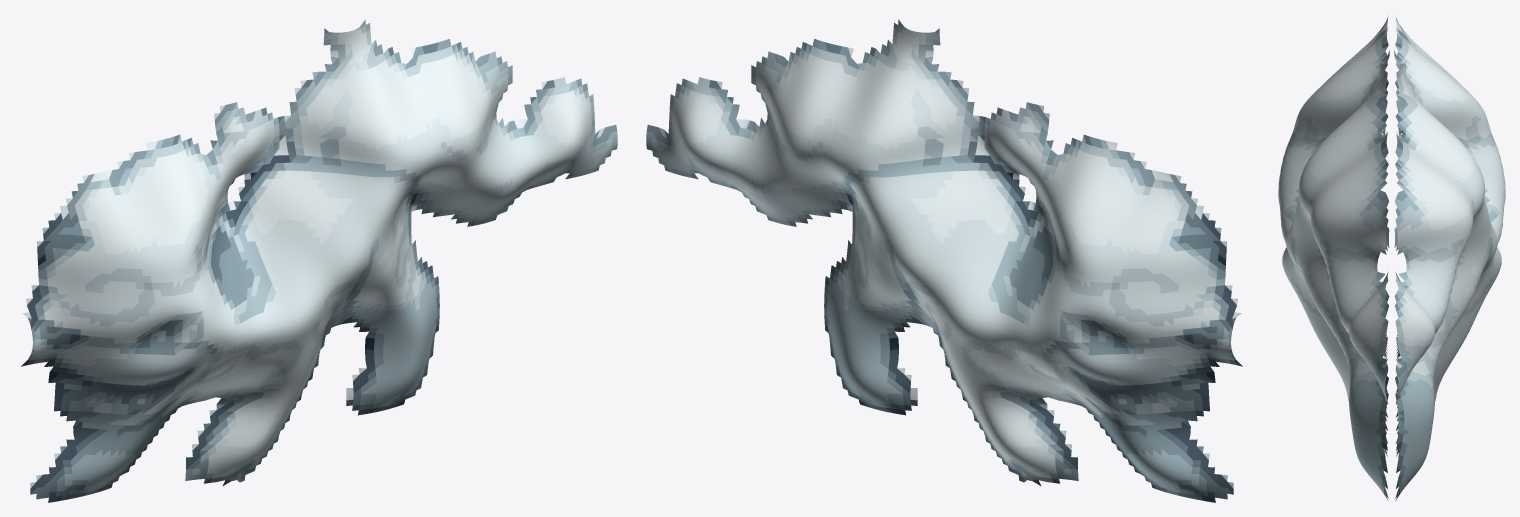
File: onnurigrowlithe.glb
3 renders of one model, left to right at view 1: azimuth 30°, elevation 25°; view 2: azimuth 150°, elevation 25°; view 3: azimuth 270°, elevation 25°, orthographic. The views are drawn at different scales.
Parts seen in each view (by area): view 1: onnurigrowlithe; view 2: onnurigrowlithe; view 3: onnurigrowlithe.
Boxes of the visible parts, <box> form: onnurigrowlithe: <box>21,19,617,502</box>; onnurigrowlithe: <box>646,19,1242,502</box>; onnurigrowlithe: <box>1278,15,1505,500</box>.
Bounding box in the file's own units: 959 × 665 × 300.
